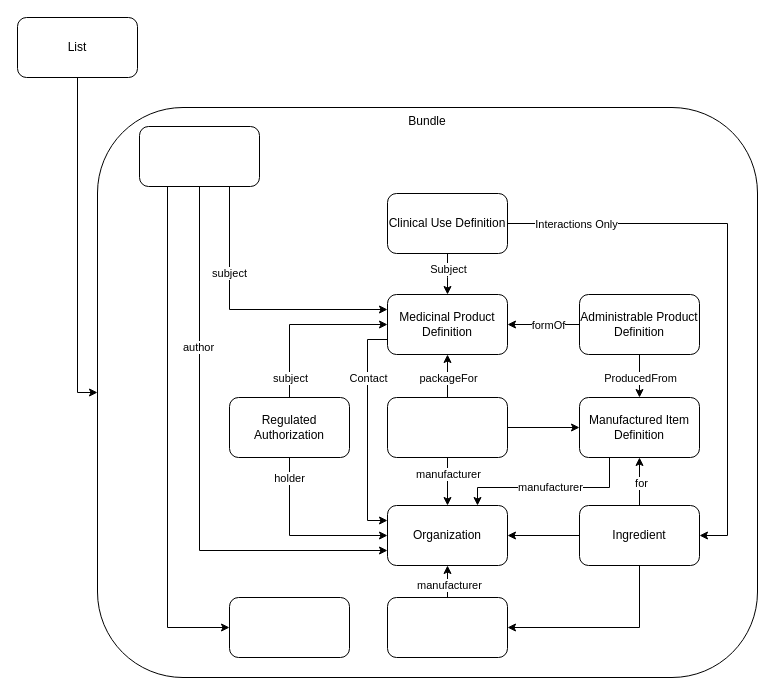
Image size: 775x695. Some labels were removed from this diagram. The shapes that lost their labels are listed below. From the top down, each one's centre as x and y in pixels, then its label:
pixel 199 156: Composition
pixel 447 427: Packaged Product Definition
pixel 289 627: Binary
pixel 447 627: Substance Definition
